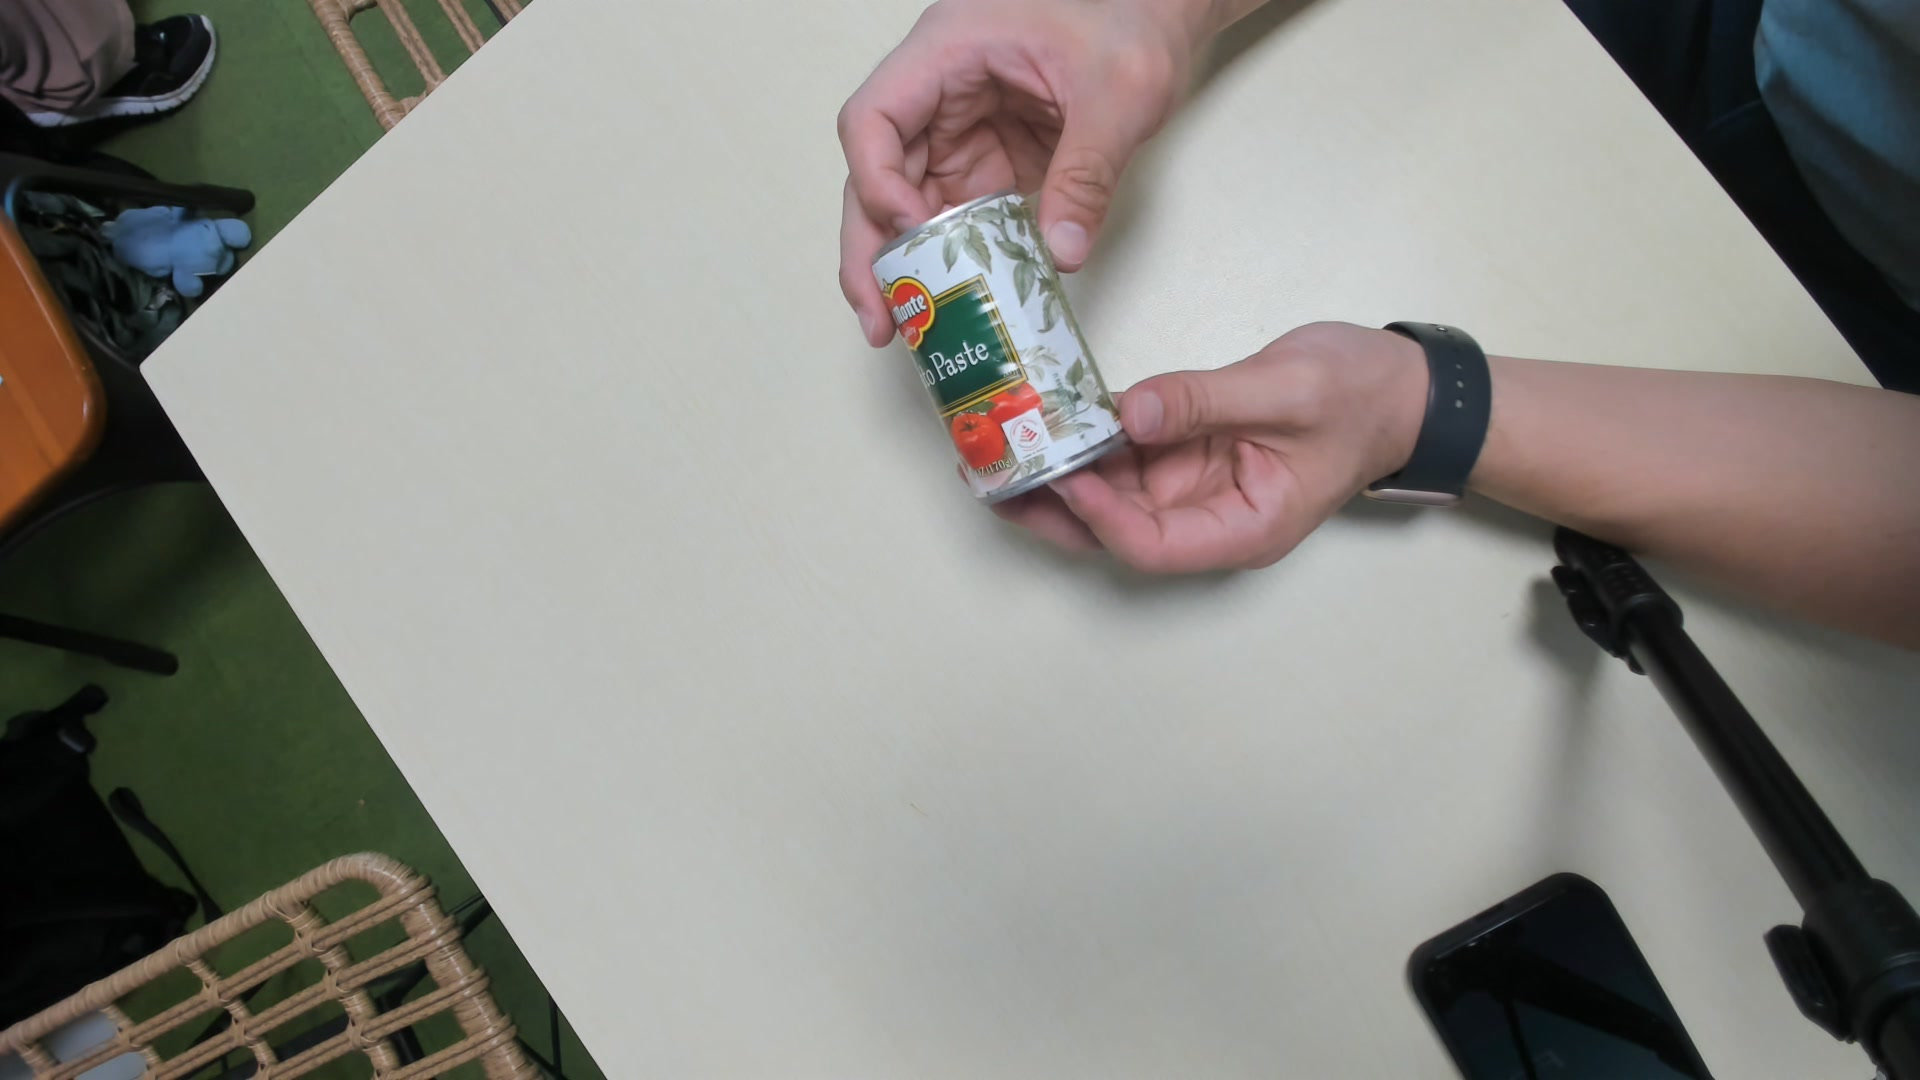OtherSauceDressing_100-199g_NonHalal_Healthy: (874, 183, 1125, 513)
